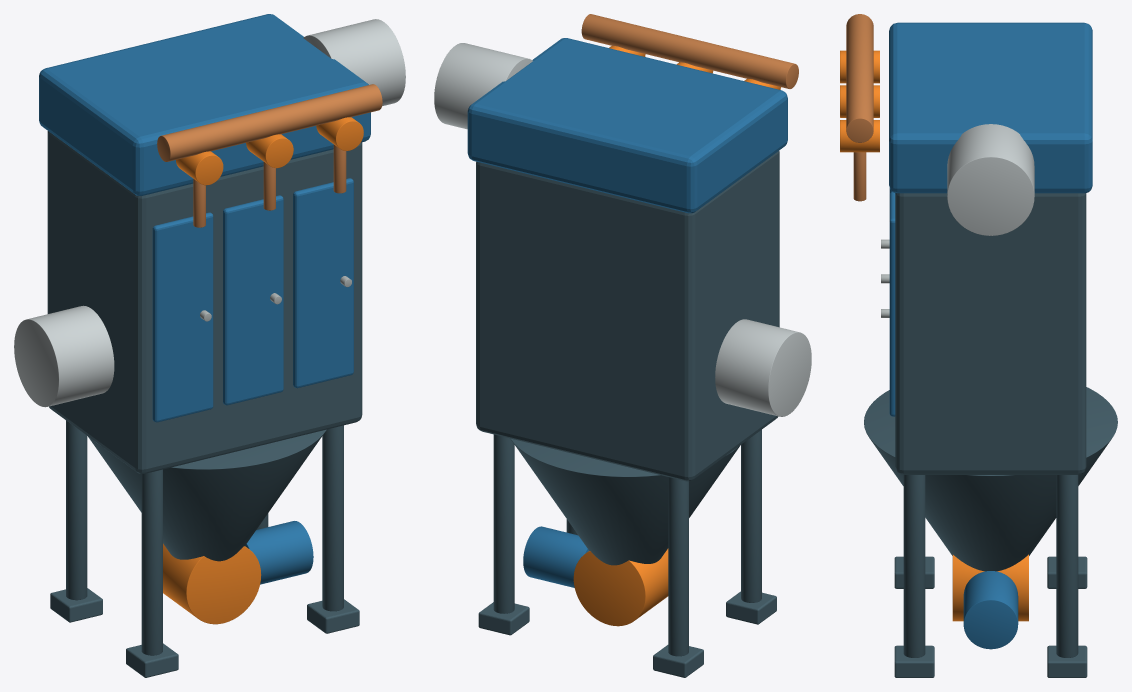
Rendered from pulse_jet_dust_collector.glb.
The picture shows the model from 3 angles, left to right: view 1: azimuth 30°, elevation 25°; view 2: azimuth 150°, elevation 25°; view 3: azimuth 270°, elevation 25°; orthographic projection. The views are drawn at different scales.
Visible parts, largest first — view 1: FILTER_HOUSING, CLEAN_AIR_PLENUM, DUST_HOPPER, ACCESS_DOOR_-0.45, ACCESS_DOOR_0.45, ACCESS_DOOR_0, DIRTY_AIR_INLET, COMPRESSED_AIR_HEADER, ROTARY_AIRLOCK, CLEAN_AIR_OUTLET, LEG_-0.58_-0.42, LEG_0.58_-0.42 (+11 smaller); view 2: FILTER_HOUSING, CLEAN_AIR_PLENUM, DUST_HOPPER, DIRTY_AIR_INLET, COMPRESSED_AIR_HEADER, ROTARY_AIRLOCK, CLEAN_AIR_OUTLET, LEG_0.58_0.42, LEG_-0.58_0.42, LEG_-0.58_-0.42, AIRLOCK_MOTOR, FOOT_0.58_0.42 (+2 smaller); view 3: FILTER_HOUSING, CLEAN_AIR_PLENUM, DUST_HOPPER, CLEAN_AIR_OUTLET, LEG_0.58_0.42, LEG_0.58_-0.42, AIRLOCK_MOTOR, COMPRESSED_AIR_HEADER, ROTARY_AIRLOCK, ACCESS_DOOR_0.45, FOOT_0.58_0.42, FOOT_0.58_-0.42 (+6 smaller).
Part boxes in pixels (x1,y1,x2,y2): FILTER_HOUSING: (47,131,362,473); CLEAN_AIR_PLENUM: (39,14,370,195); DUST_HOPPER: (88,429,326,561); ACCESS_DOOR_-0.45: (152,212,213,422); ACCESS_DOOR_0.45: (293,178,353,388); ACCESS_DOOR_0: (223,195,283,405); DIRTY_AIR_INLET: (14,305,114,407); COMPRESSED_AIR_HEADER: (157,84,382,161); ROTARY_AIRLOCK: (163,543,261,624); CLEAN_AIR_OUTLET: (303,19,405,106); LEG_-0.58_-0.42: (141,469,162,655); LEG_0.58_-0.42: (322,425,343,611); FILTER_HOUSING: (476,151,779,481); CLEAN_AIR_PLENUM: (467,38,787,213); DUST_HOPPER: (510,438,740,565); DIRTY_AIR_INLET: (715,319,811,416); COMPRESSED_AIR_HEADER: (581,14,798,88); ROTARY_AIRLOCK: (573,548,668,626); CLEAN_AIR_OUTLET: (434,43,532,129); LEG_0.58_0.42: (493,434,514,613); LEG_-0.58_0.42: (668,477,688,656); LEG_-0.58_-0.42: (741,430,761,602); AIRLOCK_MOTOR: (523,526,588,587); FOOT_0.58_0.42: (478,602,529,635); FILTER_HOUSING: (895,193,1086,474); CLEAN_AIR_PLENUM: (889,22,1092,193); DUST_HOPPER: (864,387,1117,571); CLEAN_AIR_OUTLET: (947,124,1034,235); LEG_0.58_0.42: (1056,475,1078,657); LEG_0.58_-0.42: (903,475,925,657); AIRLOCK_MOTOR: (963,571,1018,649); COMPRESSED_AIR_HEADER: (846,14,873,142); ROTARY_AIRLOCK: (952,554,1028,621); ACCESS_DOOR_0.45: (889,192,895,416); FOOT_0.58_0.42: (1047,645,1087,677); FOOT_0.58_-0.42: (894,645,934,677).
Bounding box in the file's own units: 2.23 × 3.39 × 1.53.
